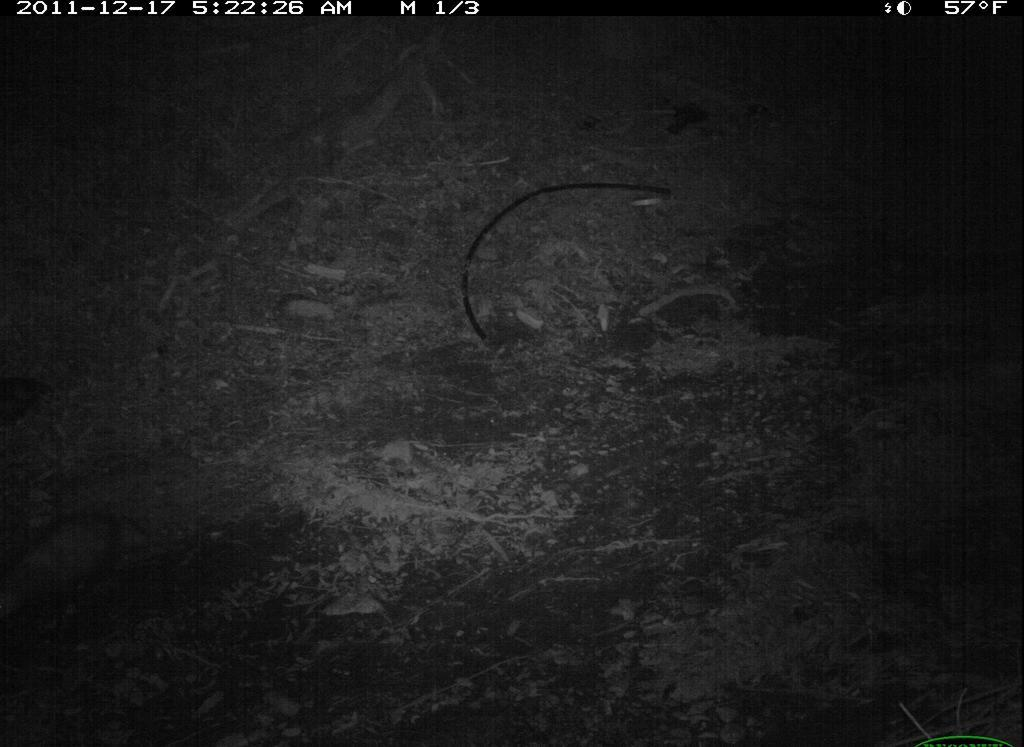opossum: (1, 497, 154, 633)
